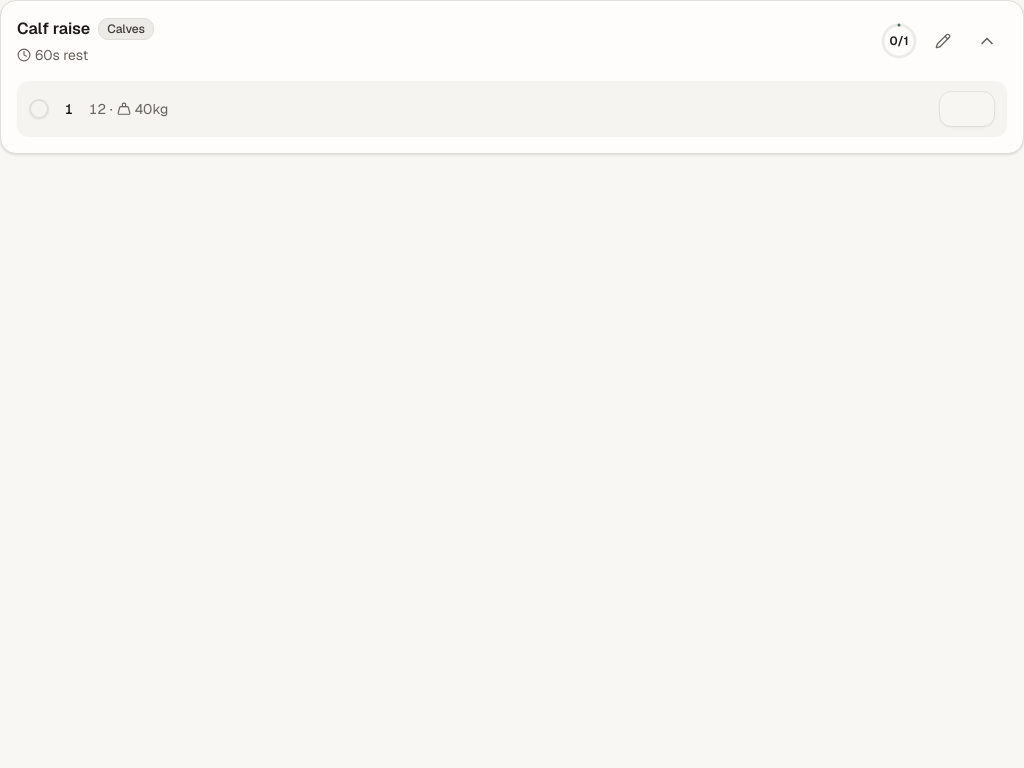
Test: ExerciseCard › opens the edit dialog from the pencil and does not show prescription summary text
Expected: the text "60s rest" is shown, x1=35 y1=45 x2=88 y2=65
Click the button named "Edit Calf raise" at (943, 41), box x1=923 y1=21 x2=963 y2=61
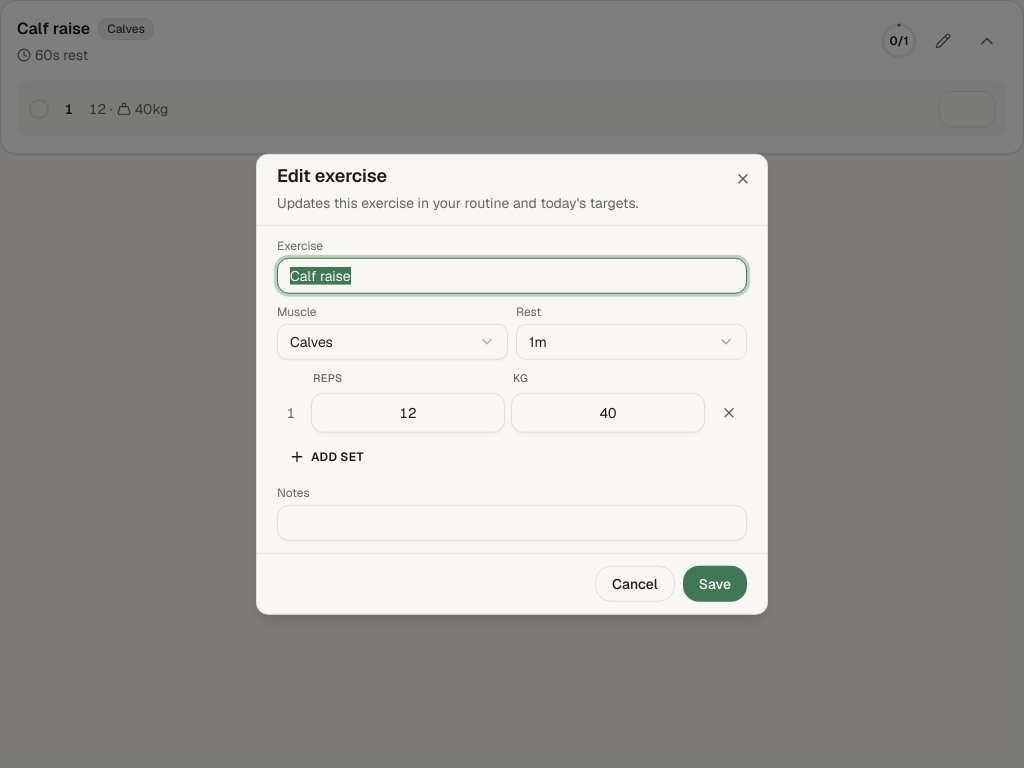
Result: the heading "Edit exercise" is shown at x1=277 y1=164 x2=387 y2=187
Result: the field labelled "Exercise" holds "Calf raise" at x1=277 y1=258 x2=747 y2=294
